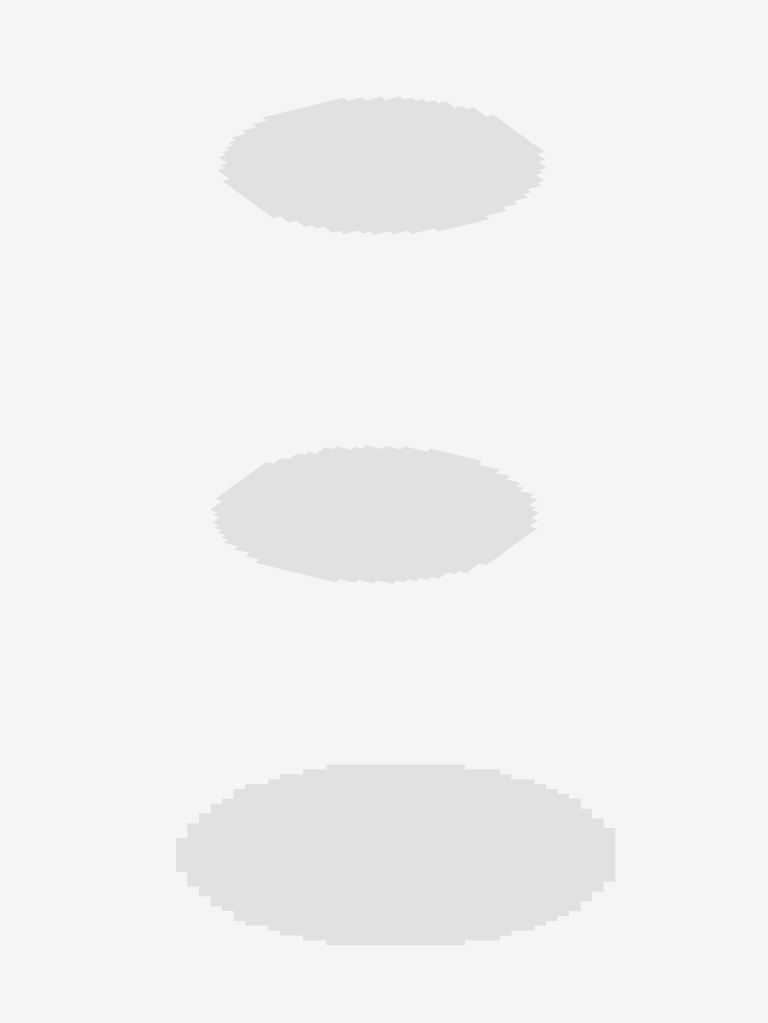
File: part_model_lights.glb
3 renders of one model, top to bottom at view 1: azimuth 30°, elevation 25°; view 2: azimuth 150°, elevation 25°; view 3: azimuth 270°, elevation 25°, orthographic. The views are drawn at different scales.
Visible parts, largest first — view 1: beastbell.part_model_lights-Mesh[1]; view 2: beastbell.part_model_lights-Mesh[1]; view 3: beastbell.part_model_lights-Mesh[1].
Boxes of the visible parts, x1,y1,x2,y2 form: beastbell.part_model_lights-Mesh[1]: (217,96,546,234); beastbell.part_model_lights-Mesh[1]: (210,445,538,583); beastbell.part_model_lights-Mesh[1]: (176,764,615,945).
Bounding box in the file's own units: 0.8 × 0.0299 × 0.8.
1 material, 1 textured.
